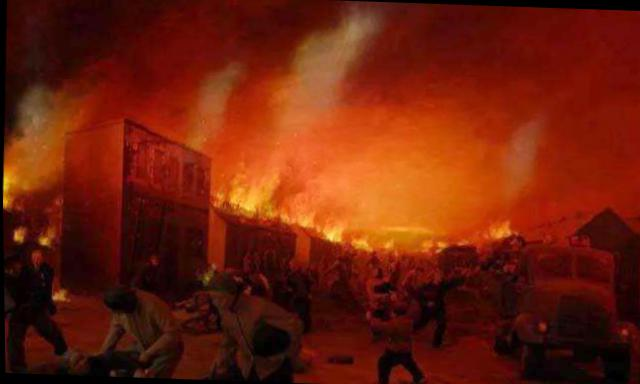fire: (209, 174, 516, 256)
